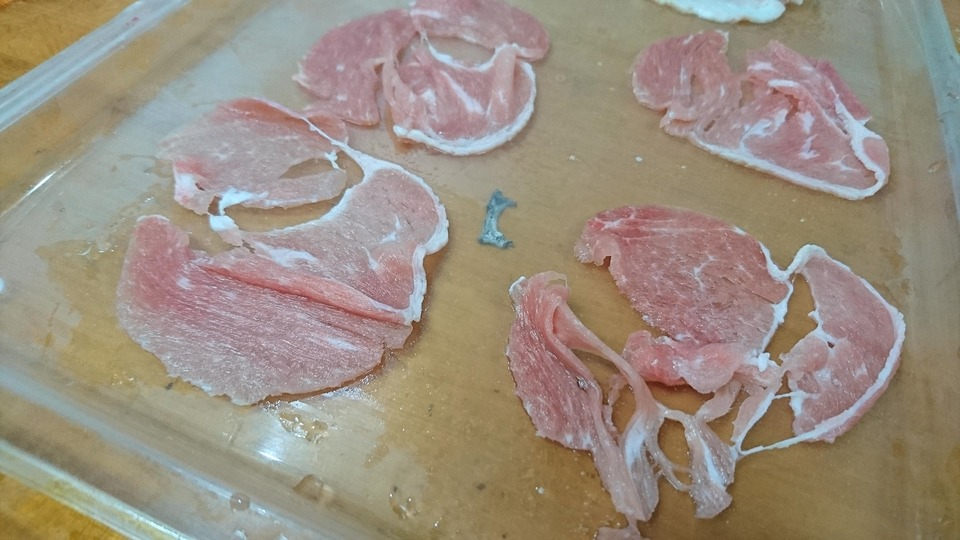restructured meat: (508, 199, 897, 513), (99, 120, 433, 431), (625, 8, 907, 202), (297, 11, 566, 153)
